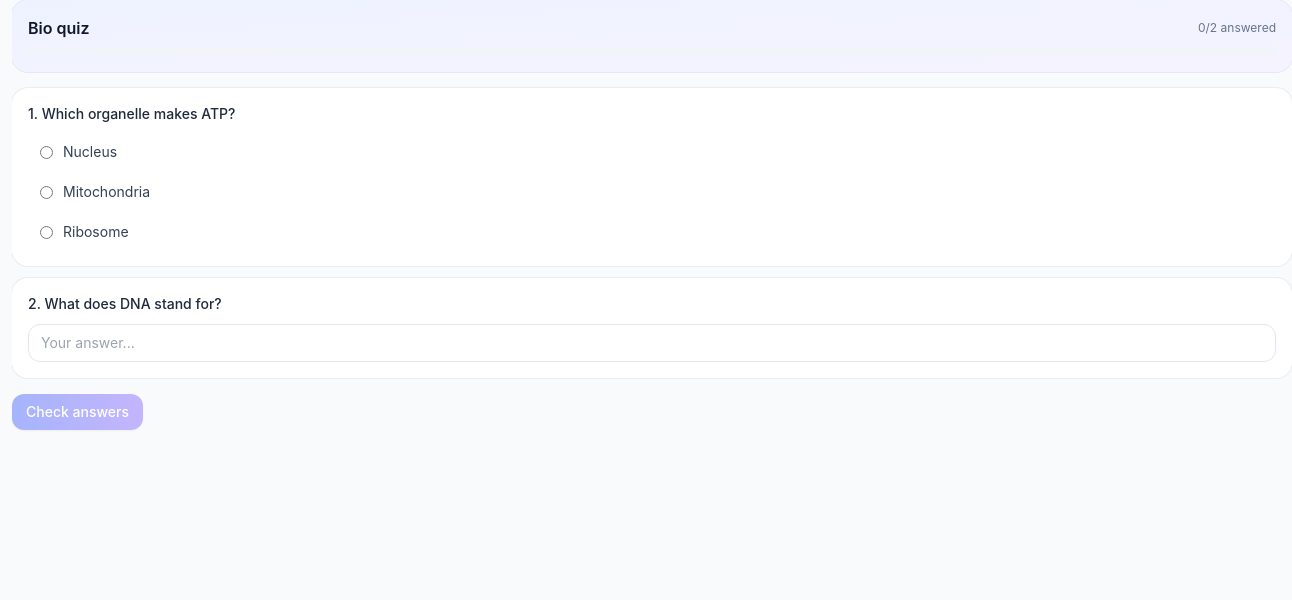
QuizView › resets on Try again
What coordinates should you click on to do the following:
click the radio button labelled "Nucleus"
I would click on:
 (46, 152)
Its box is [40, 146, 53, 158].
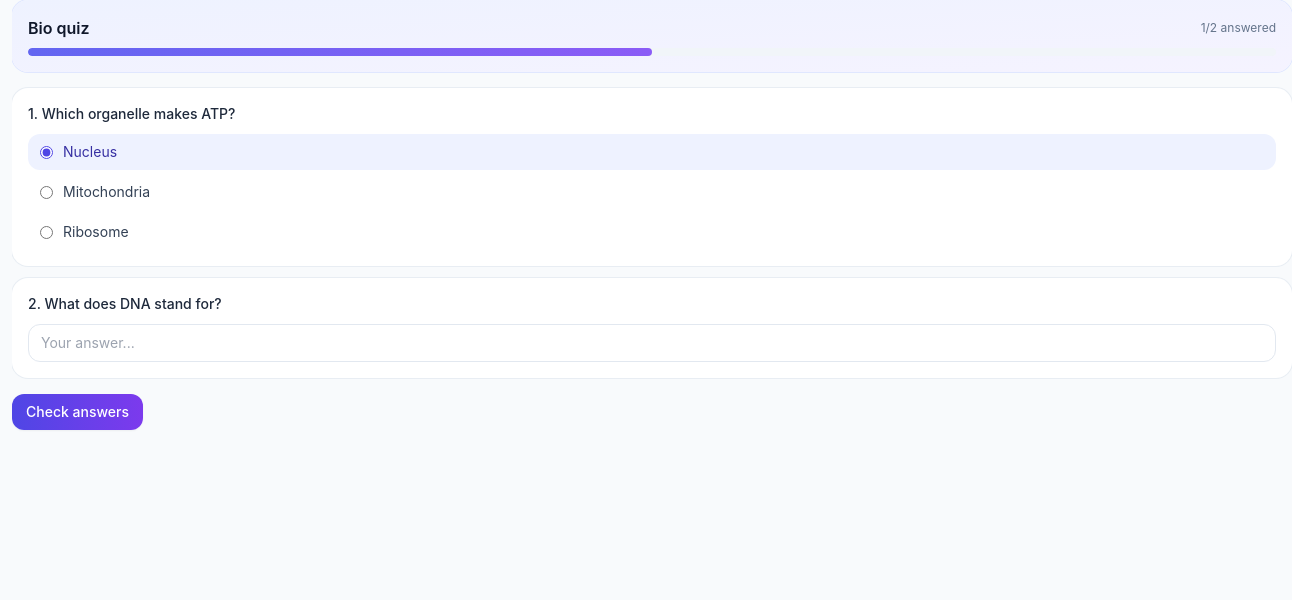
What coordinates should you click on to do the following:
click the button "Check answers"
I would click on:
 (78, 412)
Its box is [12, 394, 143, 430].
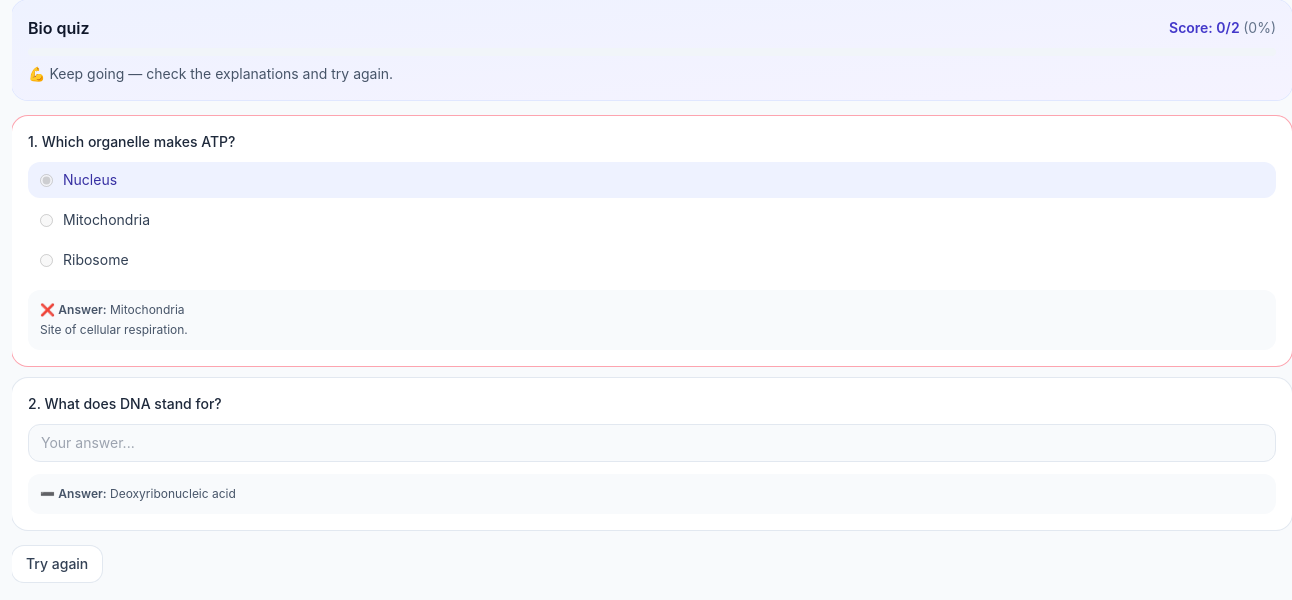
What coordinates should you click on to do the following:
click the button "Try again"
I would click on:
 (57, 564)
Its box is [12, 546, 102, 582].
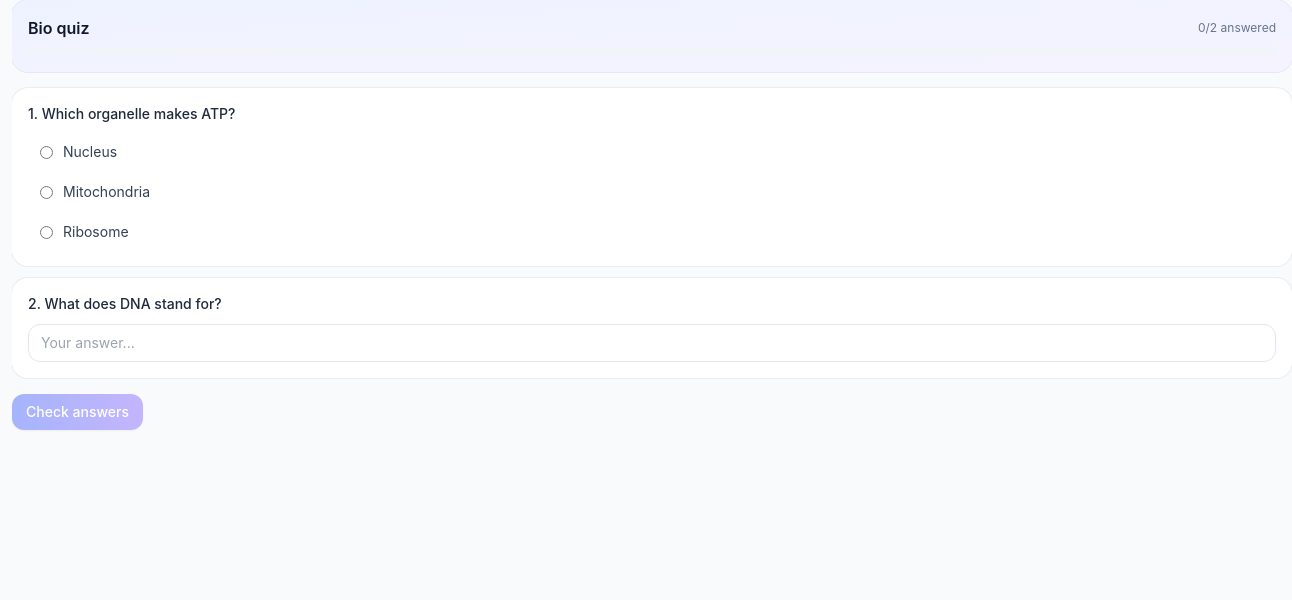
Expected: the text "Score:" is gone
